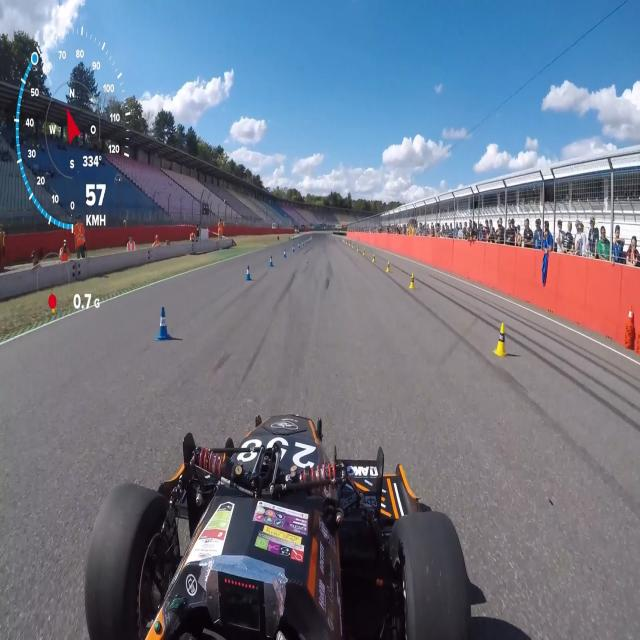blue_cone: (154, 305, 171, 342), (245, 265, 252, 281), (269, 254, 274, 268), (283, 248, 286, 258)
yellow_cone: (492, 322, 507, 357), (408, 272, 416, 289), (386, 260, 390, 273), (372, 253, 376, 263)
